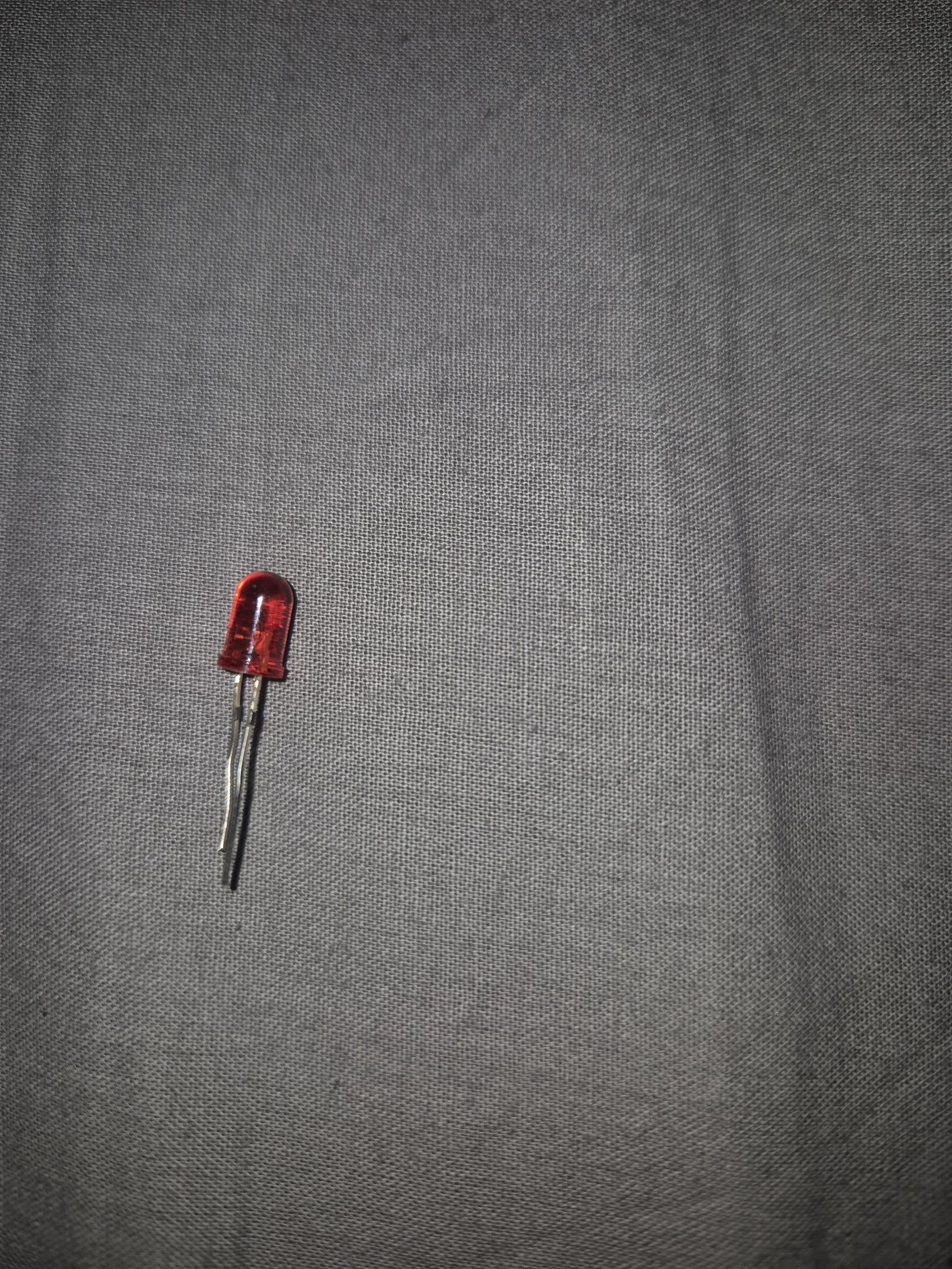led-diode: (222, 647, 264, 890), (233, 570, 300, 680), (241, 615, 259, 651)
